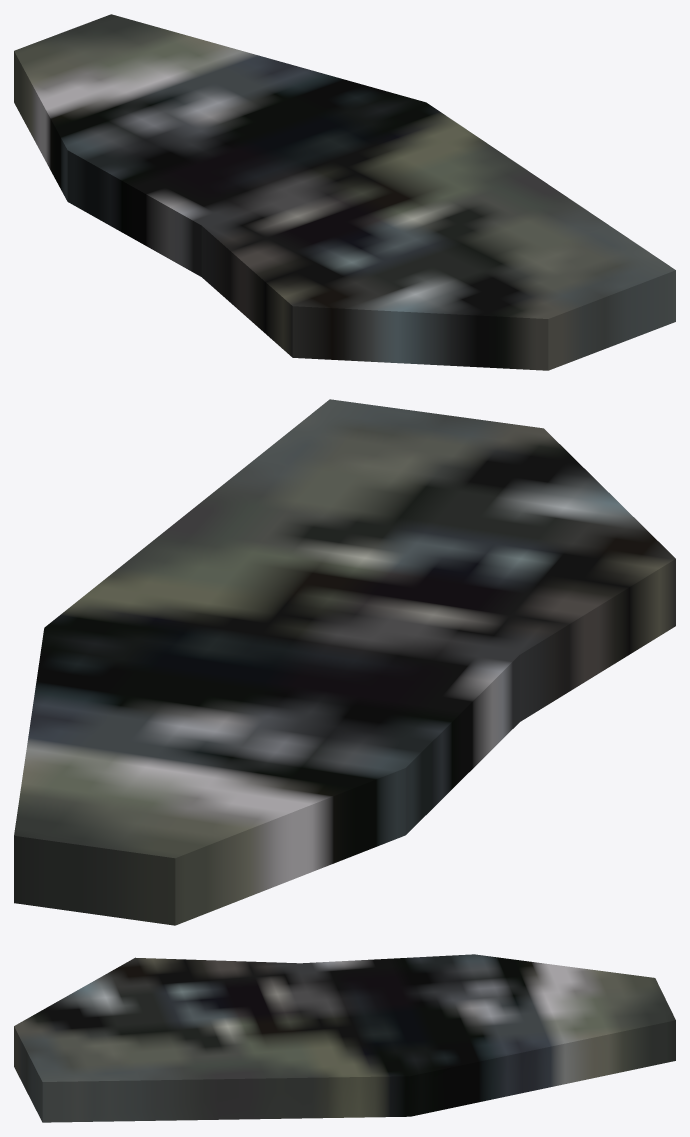
File: USA - Aviation - Spectre Gunship - Damage State 6 - AVSGunship_d6.glb
The picture shows the model from 3 angles, top to bottom: view 1: azimuth 30°, elevation 25°; view 2: azimuth 150°, elevation 25°; view 3: azimuth 270°, elevation 25°; orthographic projection. The views are drawn at different scales.
Parts seen in each view (by area): view 1: AVSGUNSHIP_D6; view 2: AVSGUNSHIP_D6; view 3: AVSGUNSHIP_D6.
Part boxes in pixels (x1,y1,x2,y2): AVSGUNSHIP_D6: [14, 14, 675, 370]; AVSGUNSHIP_D6: [14, 399, 675, 925]; AVSGUNSHIP_D6: [14, 954, 675, 1122].
Bounding box in the file's own units: 5.06 × 0.75 × 11.09.
1 material, 1 textured.
